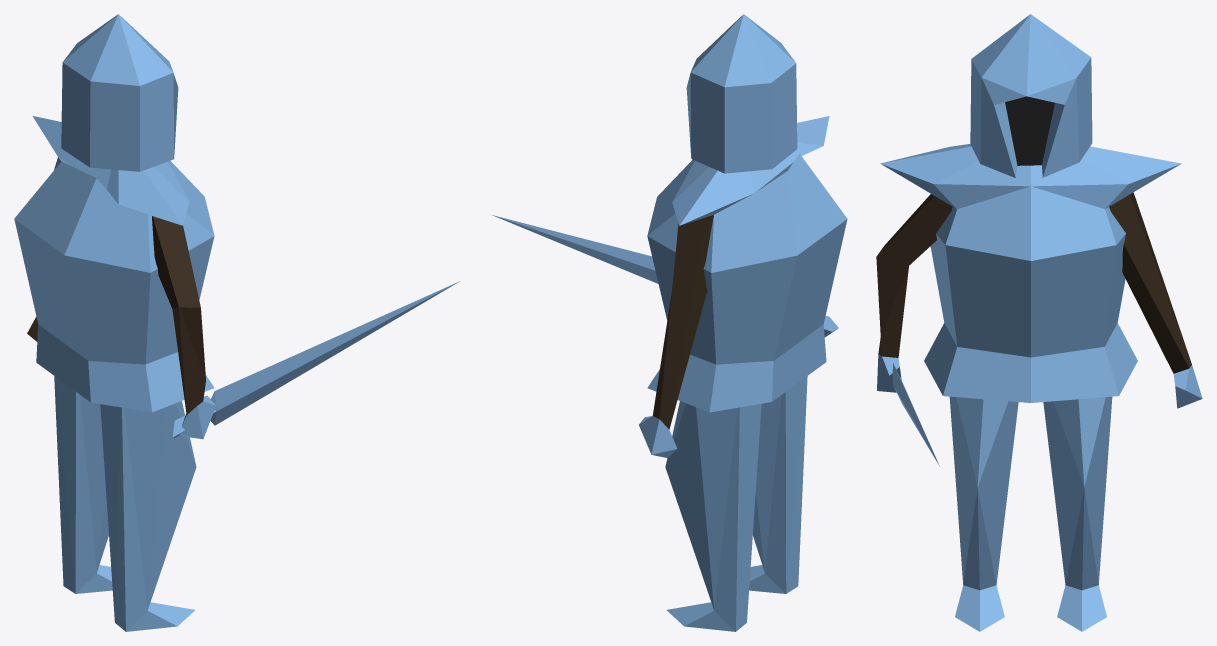
Rendered from ruutel_sword4.0.glb.
3 renders of one model, left to right at view 1: azimuth 30°, elevation 25°; view 2: azimuth 150°, elevation 25°; view 3: azimuth 270°, elevation 25°, orthographic.
Visible parts, largest first — view 1: armor, leg_r, head, arm_r, leg_l; view 2: armor, leg_l, head, leg_r, arm_l, arm_r; view 3: armor, head, leg_l, leg_r, arm_r, arm_l.
Part boxes in pixels (x1,y1,x2,y2): armor: (14, 116, 214, 412); leg_r: (100, 401, 196, 631); head: (61, 14, 178, 171); arm_r: (152, 216, 460, 439); leg_l: (54, 376, 112, 593); armor: (647, 116, 847, 412); leg_l: (665, 401, 761, 631); head: (686, 14, 797, 173); leg_r: (749, 376, 807, 593); arm_l: (639, 215, 713, 457); arm_r: (492, 215, 838, 337); armor: (880, 144, 1181, 402); head: (970, 14, 1092, 177); leg_l: (1043, 396, 1112, 631); leg_r: (949, 396, 1018, 631); arm_r: (876, 194, 952, 466); arm_l: (1109, 192, 1202, 408).
Size of the model in its own units: 2.01 by 3.01 by 1.5.
